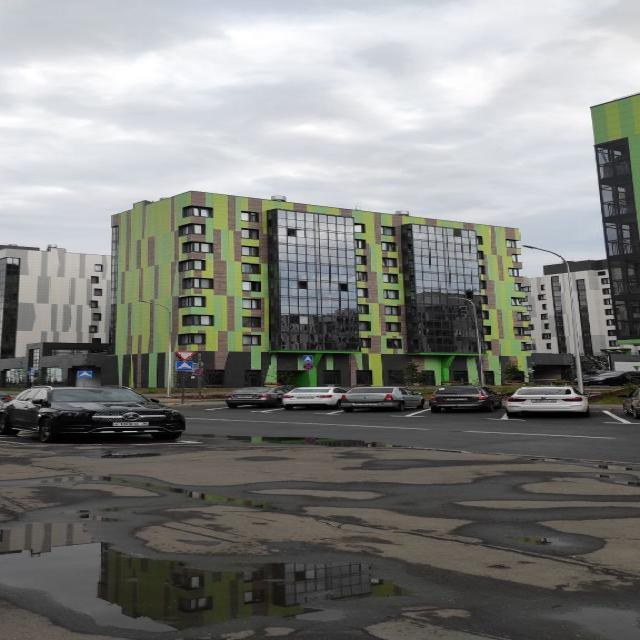Building: (109, 192, 528, 386)
